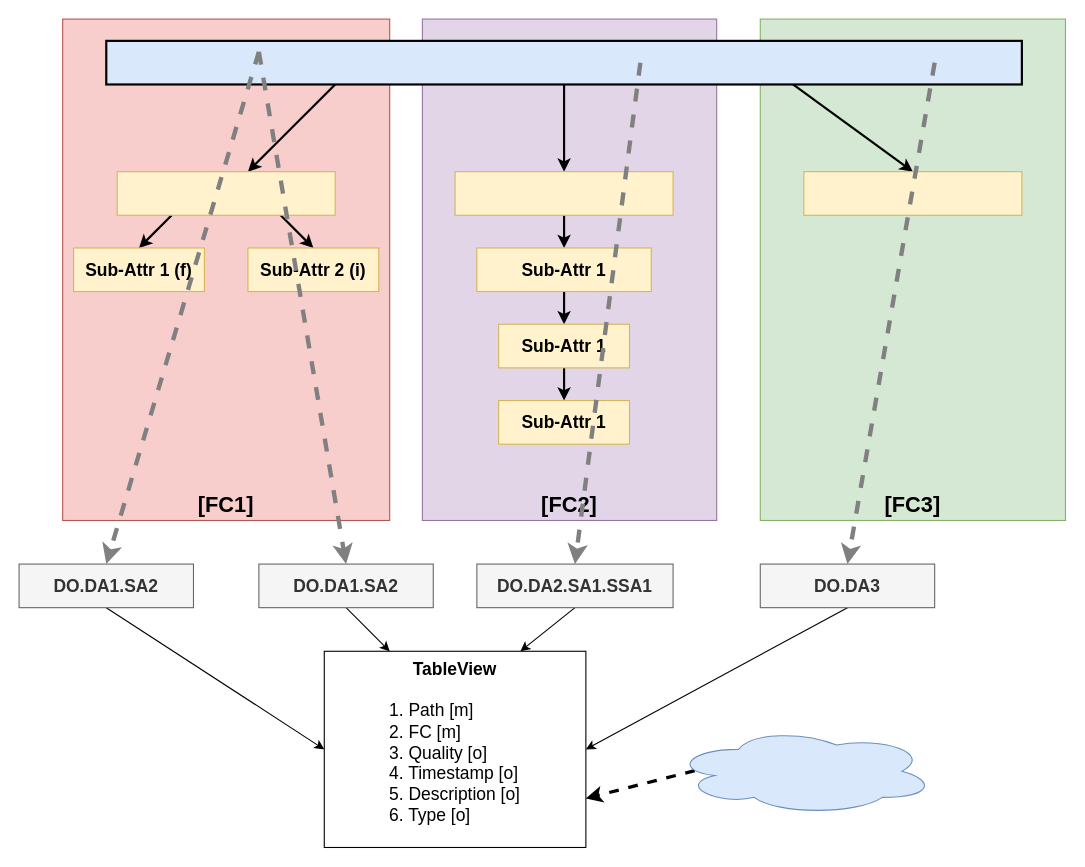
This 1085x867 diagram has some shape labels left out. The shapes that lost their labels are listed below. From the top down, each one's centre as x and y in pixels, then its label:
At point 563,62: "Data Object".
At point 225,193: "Data Attribute 1 (mag)".
At point 563,193: "Data Attribute 2".
At point 912,193: "Data Attribute 3".
At point 803,770: "Plain view".
